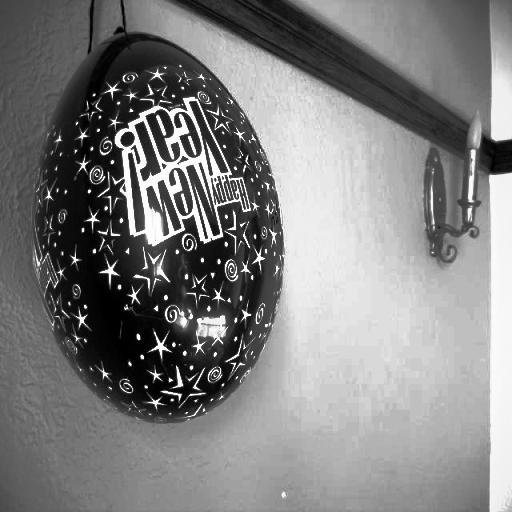balloon: (28, 32, 282, 428)
